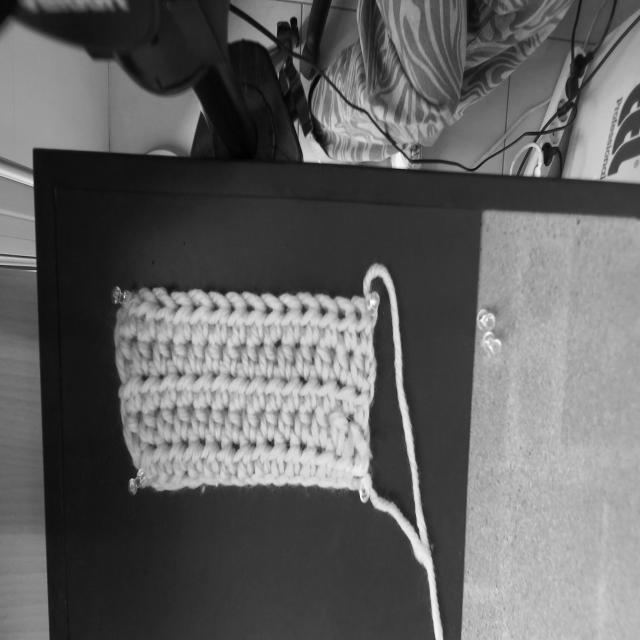ch: (162, 475, 186, 489), (149, 477, 166, 491), (330, 479, 353, 489), (298, 477, 317, 489), (201, 475, 220, 487), (232, 475, 248, 489), (184, 478, 204, 489), (317, 476, 337, 486), (217, 476, 235, 487), (247, 472, 259, 486), (283, 476, 299, 486), (271, 475, 285, 486), (259, 474, 271, 483)
sc: (350, 297, 376, 354), (154, 288, 180, 344), (188, 290, 214, 345), (204, 293, 231, 344), (241, 293, 267, 345), (134, 289, 159, 342), (170, 291, 194, 344), (316, 294, 339, 349), (225, 292, 247, 347), (228, 362, 251, 413), (246, 362, 267, 417), (211, 360, 233, 412), (131, 322, 152, 376), (336, 298, 357, 352), (191, 361, 214, 409), (260, 294, 283, 342), (141, 362, 163, 412), (279, 294, 301, 344), (280, 366, 303, 413), (336, 370, 358, 419), (298, 365, 320, 414), (317, 427, 338, 478), (329, 400, 348, 456), (218, 426, 238, 479), (265, 364, 287, 412), (234, 429, 255, 479), (298, 295, 319, 345), (152, 429, 172, 481), (159, 359, 180, 408), (349, 424, 369, 475), (177, 359, 198, 407), (184, 427, 203, 480), (152, 322, 171, 375), (251, 426, 271, 476), (201, 428, 220, 479), (314, 329, 332, 382), (168, 427, 187, 477), (315, 371, 337, 414), (269, 428, 287, 480), (259, 328, 277, 380), (190, 392, 209, 441), (123, 363, 142, 411), (241, 327, 258, 380), (277, 328, 294, 381), (223, 329, 241, 378), (299, 432, 318, 477), (310, 398, 327, 448), (157, 396, 174, 445), (296, 328, 312, 380), (334, 436, 353, 479), (138, 438, 157, 481), (242, 396, 259, 444), (205, 326, 221, 376), (285, 429, 301, 478), (225, 397, 242, 443), (260, 395, 277, 441), (189, 328, 205, 375), (355, 381, 370, 431), (334, 334, 349, 384), (140, 401, 156, 446), (174, 393, 189, 441), (278, 397, 294, 442), (295, 398, 311, 443), (172, 326, 187, 374), (350, 339, 364, 390), (209, 396, 223, 442), (126, 400, 140, 436)
